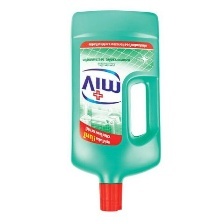cleaning_solution: (67, 6, 164, 214)
